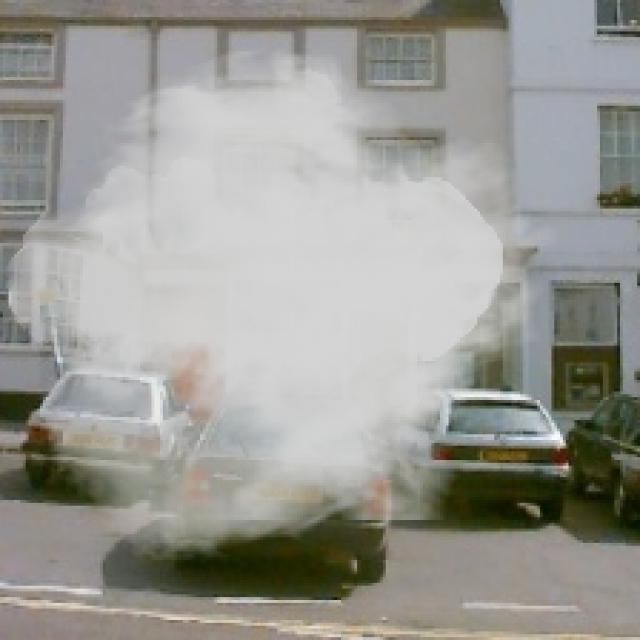Smoke: (6, 43, 560, 566)
